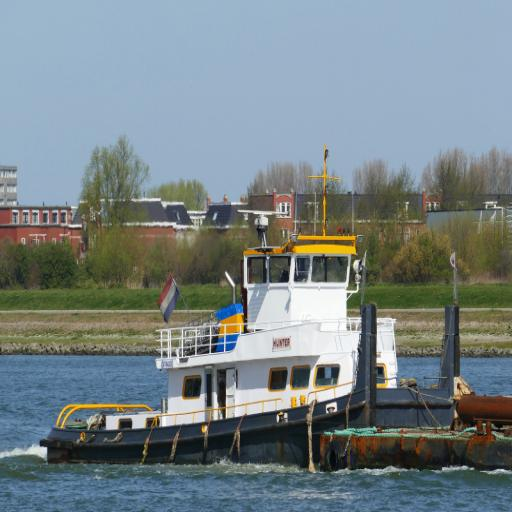tugboat: (38, 140, 468, 482)
